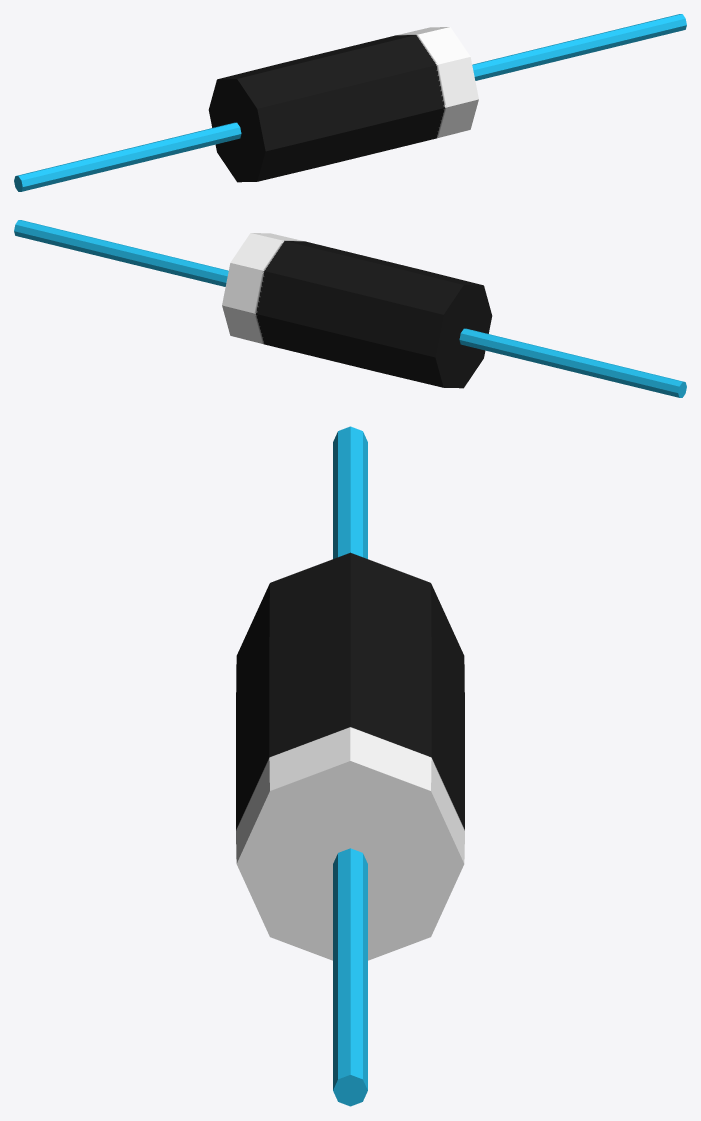
Rendered from DIODE.fbx.
The picture shows the model from 3 angles, top to bottom: view 1: azimuth 30°, elevation 25°; view 2: azimuth 150°, elevation 25°; view 3: azimuth 270°, elevation 25°; orthographic projection. The views are drawn at different scales.
Visible parts, largest first — view 1: P_N_Junction_diode_normal; view 2: P_N_Junction_diode_normal; view 3: P_N_Junction_diode_normal.
Boxes of the visible parts, x1,y1,x2,y2 form: P_N_Junction_diode_normal: (14, 14, 686, 191); P_N_Junction_diode_normal: (14, 220, 686, 397); P_N_Junction_diode_normal: (236, 426, 464, 1106).
Size of the model in its own units: 40.29 by 6.02 by 6.02.
1 material, 1 textured.
